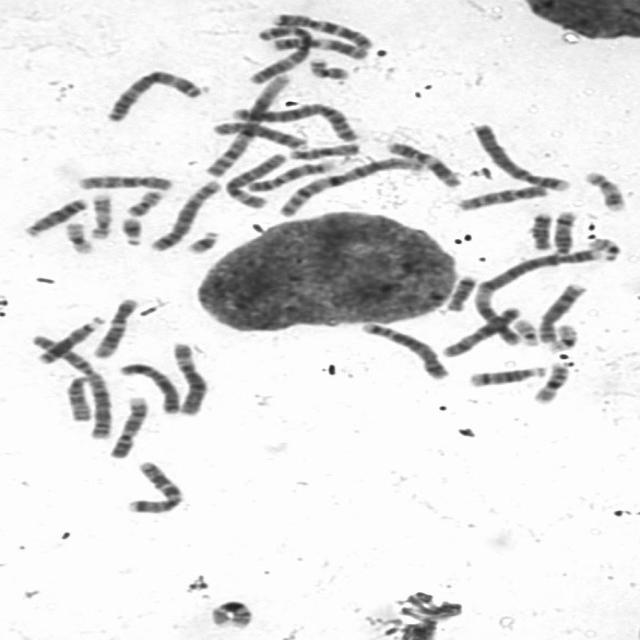A1: (199, 70, 295, 178), (274, 154, 426, 218)
A2: (28, 332, 115, 442), (227, 100, 362, 143)
A3: (101, 67, 206, 123), (246, 22, 314, 85)
B4: (470, 120, 572, 192), (478, 247, 603, 292)
B5: (146, 176, 222, 253), (357, 320, 450, 380)
C10: (454, 183, 550, 212), (72, 172, 174, 192)
C11: (383, 140, 462, 189), (266, 34, 371, 61)
C12: (90, 295, 140, 360), (472, 292, 522, 347)
C6: (220, 151, 290, 209), (167, 339, 210, 418)
C7: (268, 11, 374, 52), (122, 458, 187, 515)
C8: (533, 281, 589, 346), (208, 118, 309, 150)
C9: (245, 157, 335, 193), (104, 394, 150, 459)
D13: (33, 314, 106, 366), (20, 196, 89, 238)
D14: (463, 363, 547, 389), (550, 209, 578, 255)
D15: (63, 373, 95, 425), (286, 141, 362, 161)
E16: (530, 360, 570, 404), (206, 598, 253, 630)
E17: (580, 170, 626, 212), (86, 192, 115, 240)
E18: (440, 273, 478, 313), (526, 210, 554, 251)
F19: (61, 220, 96, 256), (546, 322, 581, 353)
F20: (123, 188, 166, 217), (306, 56, 350, 80)
G21: (184, 228, 222, 255), (118, 216, 145, 247)
G22: (509, 315, 541, 347), (586, 236, 622, 262)
X: (437, 304, 522, 359), (116, 360, 182, 414)
